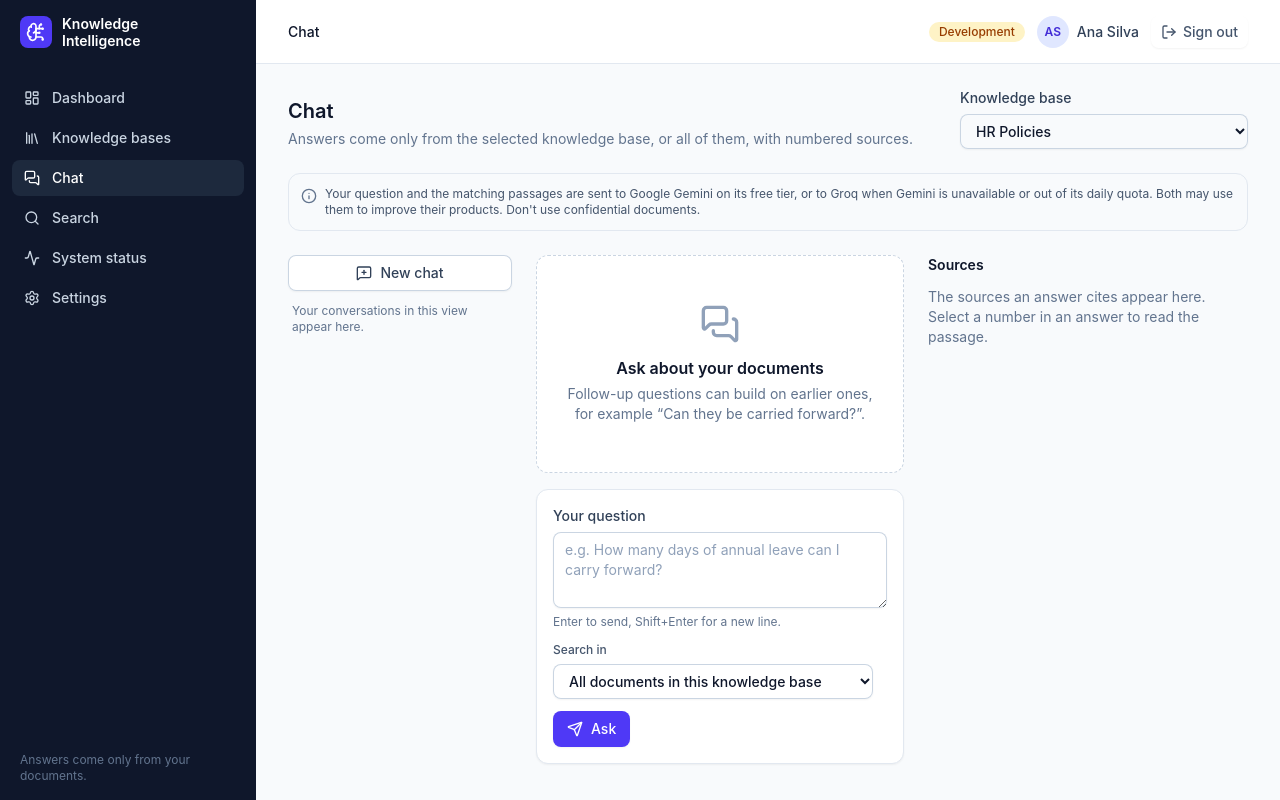
Test: chat page › sends a follow-up to the same conversation and shows what was searched
In the text box labelled "Your question": (720, 570) left=553, top=532, right=887, bottom=608, type "How much leave can I carry forward?"
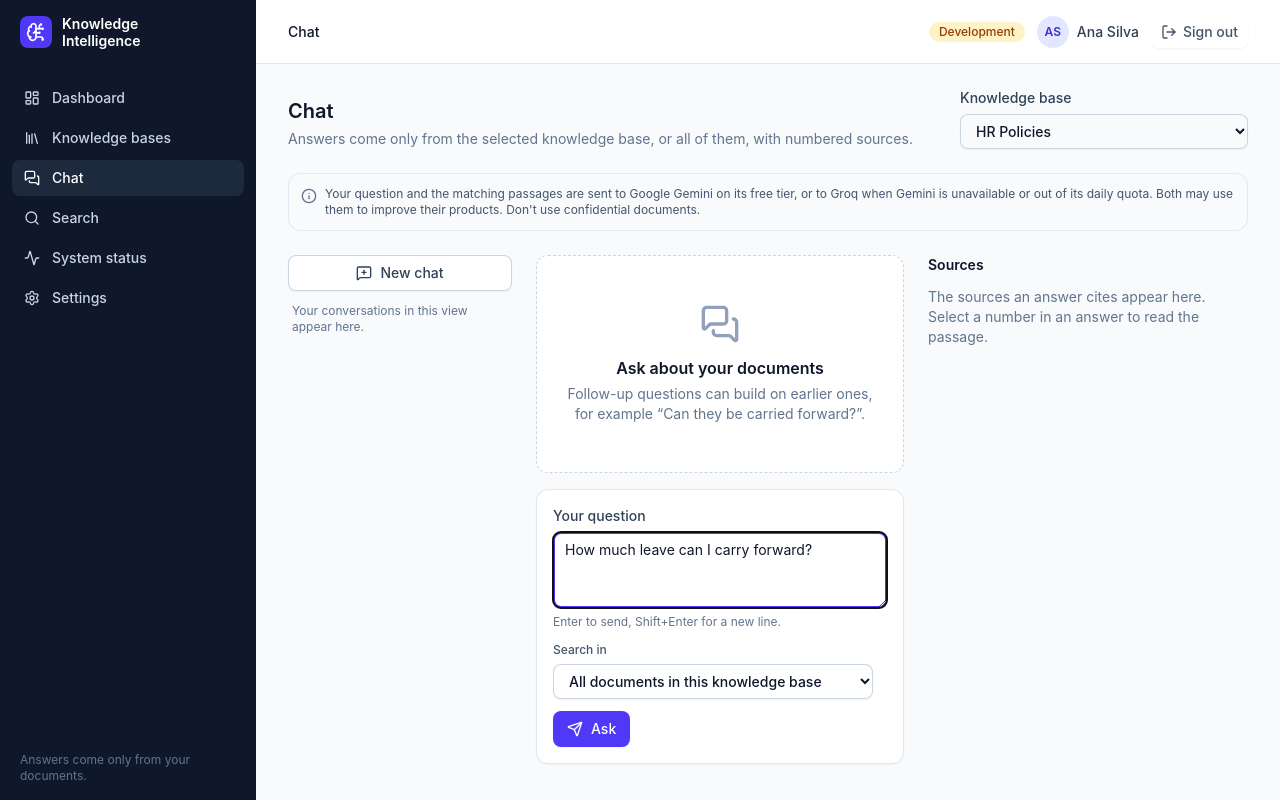
Click the button "Ask": click(592, 729) left=553, top=711, right=630, bottom=747
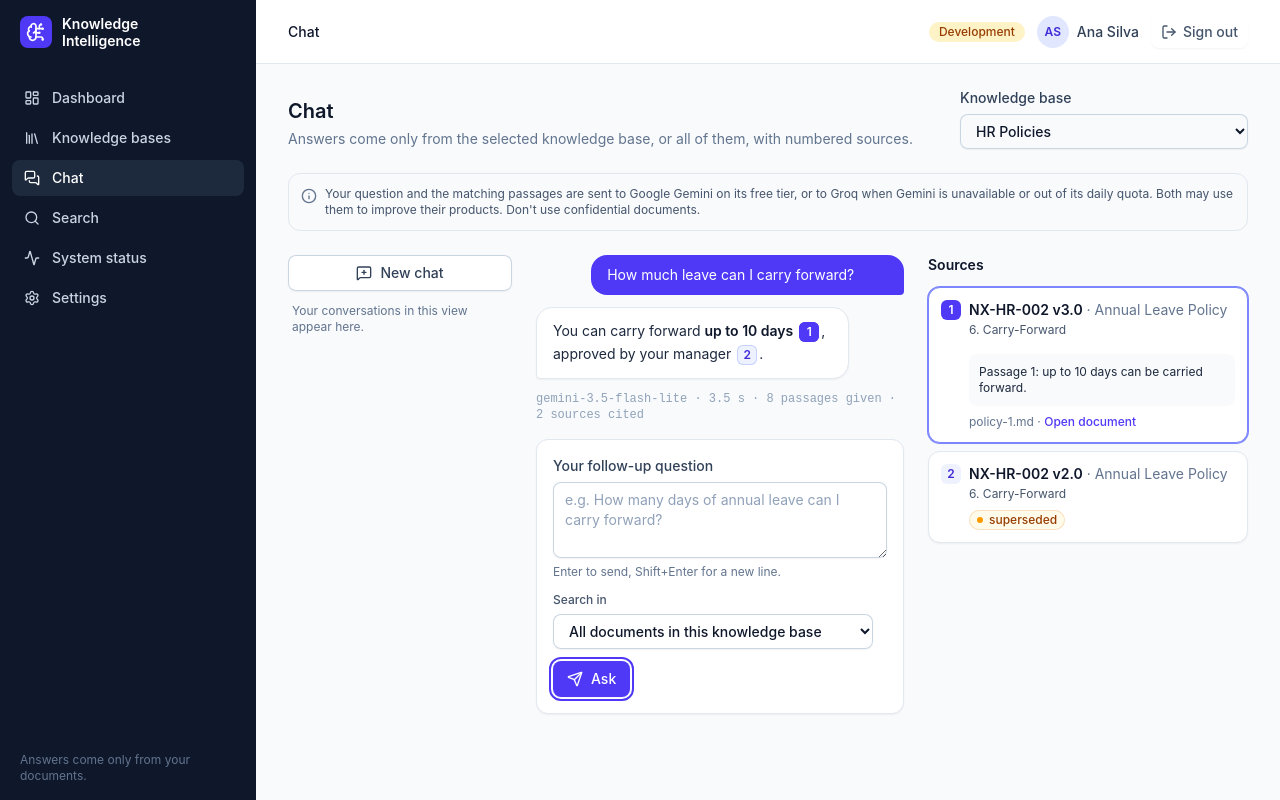
Check: the text "2 sources cited" is shown, box left=536, top=392, right=896, bottom=422
In the text box labelled "Your follow-up question": (720, 520) left=553, top=482, right=887, bottom=558, type "Can they be carried into next year?"
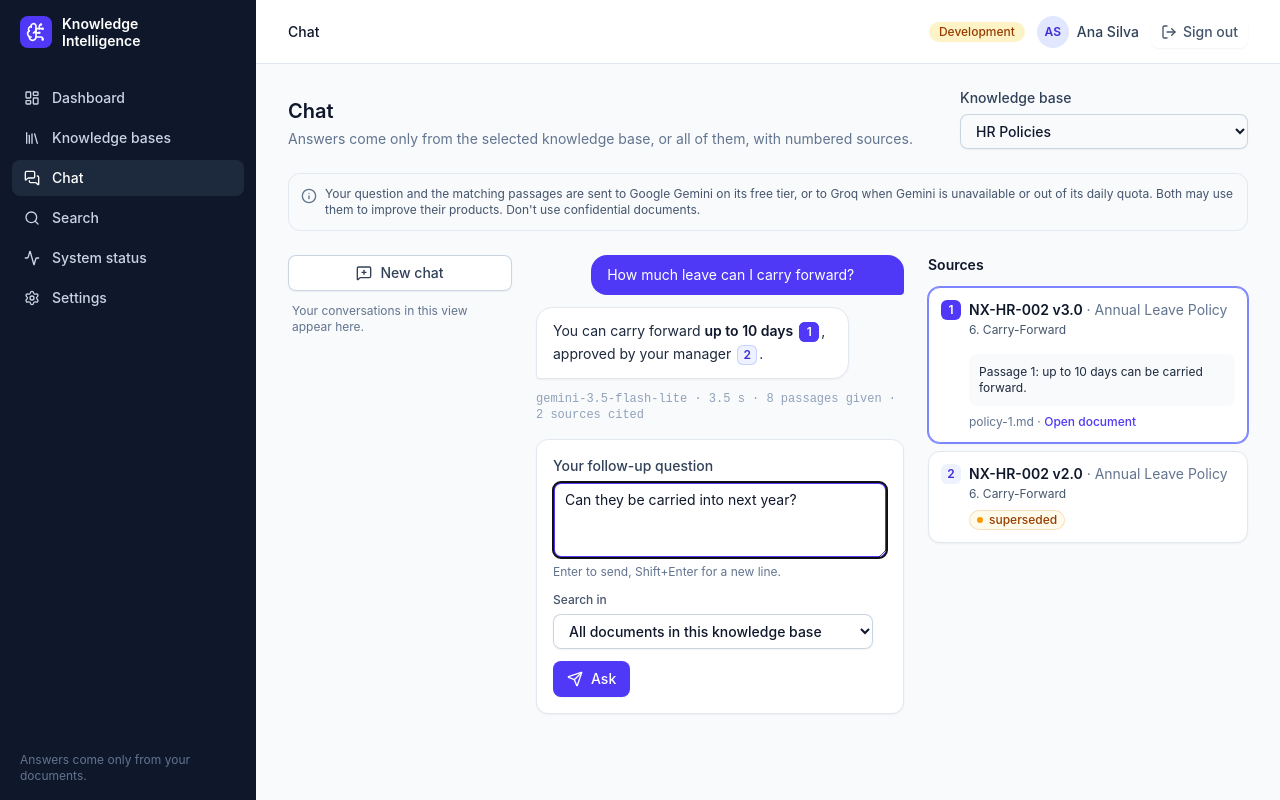
Click the button "Ask": click(592, 678) left=553, top=660, right=630, bottom=696
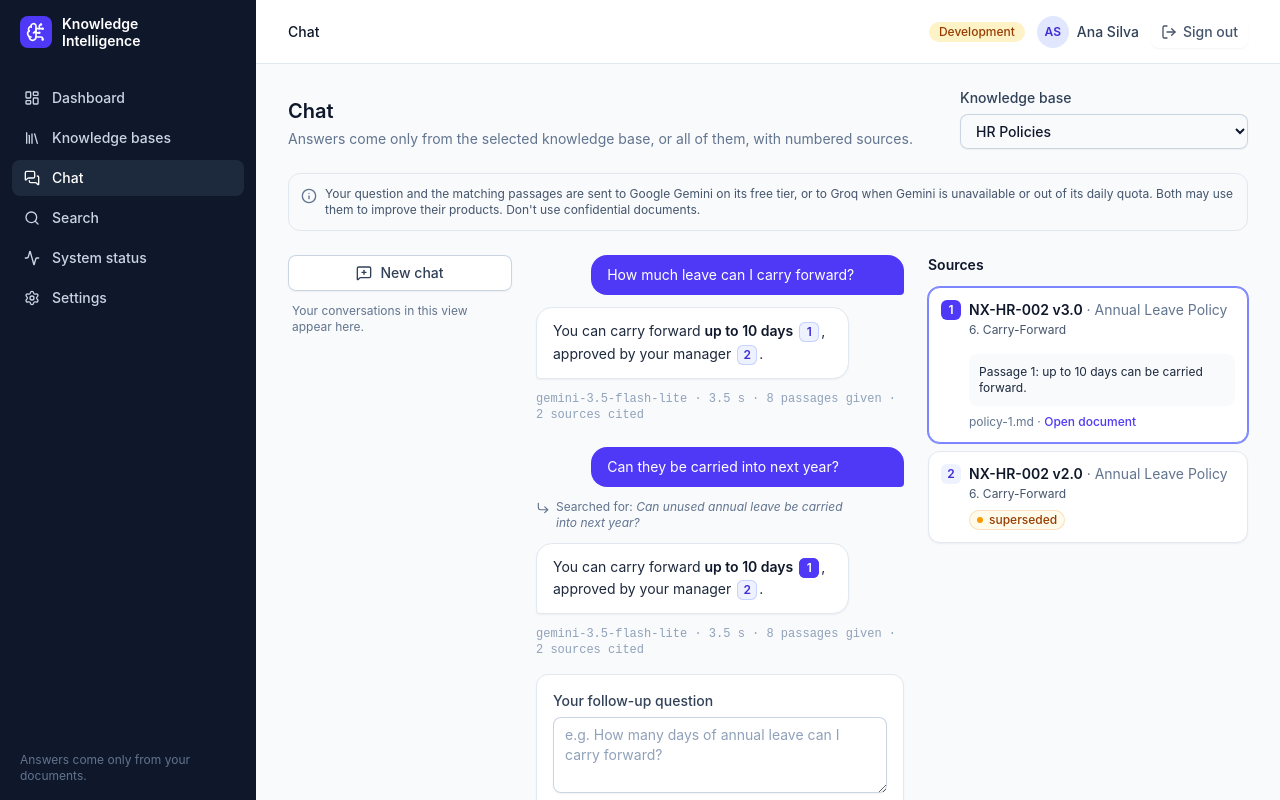
Check: the text "Can unused annual leave be carried into next year?" is shown, box left=556, top=498, right=842, bottom=530
Check: the text "Searched for:" is shown, box left=556, top=498, right=636, bottom=514
Check: the number of elements named "Answer" is 2, box left=536, top=307, right=849, bottom=378; left=536, top=542, right=849, bottom=614
